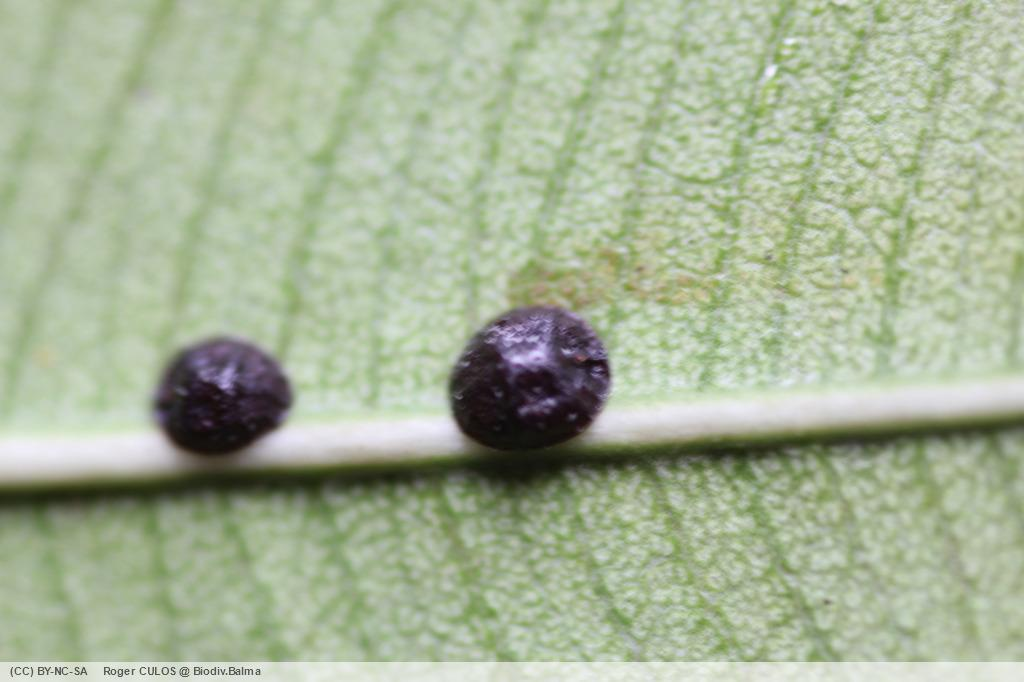BlackScale: (439, 297, 619, 457), (140, 326, 309, 460)
